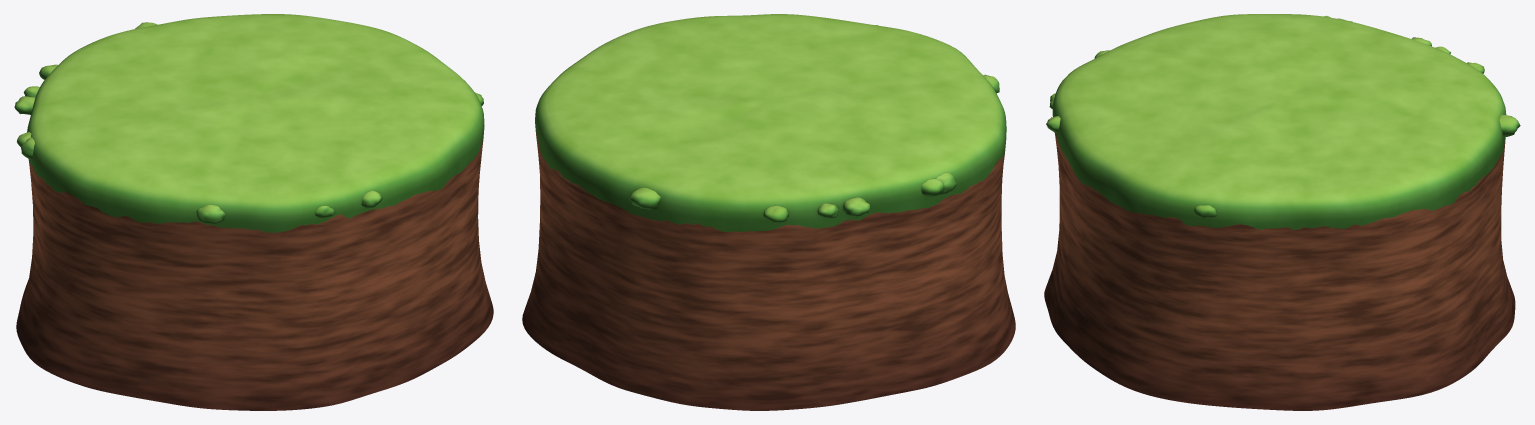
File: Env_Mesa_1.glb
The picture shows the model from 3 angles, left to right: view 1: azimuth 30°, elevation 25°; view 2: azimuth 150°, elevation 25°; view 3: azimuth 270°, elevation 25°; orthographic projection.
Parts seen in each view (by area): view 1: Env_Mesa_1.001; view 2: Env_Mesa_1.001; view 3: Env_Mesa_1.001.
Part boxes in pixels (x1,y1,x2,y2): Env_Mesa_1.001: (14,14,493,410); Env_Mesa_1.001: (522,14,1015,410); Env_Mesa_1.001: (1044,14,1520,410).
Size of the model in its own units: 2 by 0.9447 by 1.95.
Materials: 1 (1 with a texture image).
